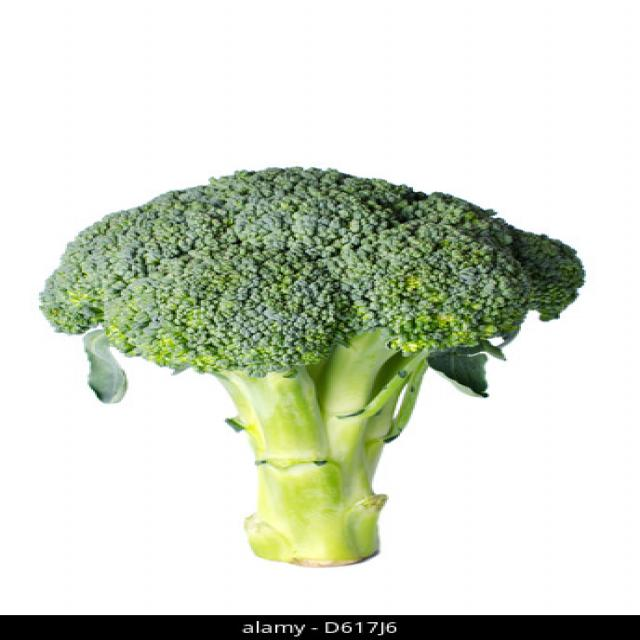broccoli: (39, 164, 588, 570)
